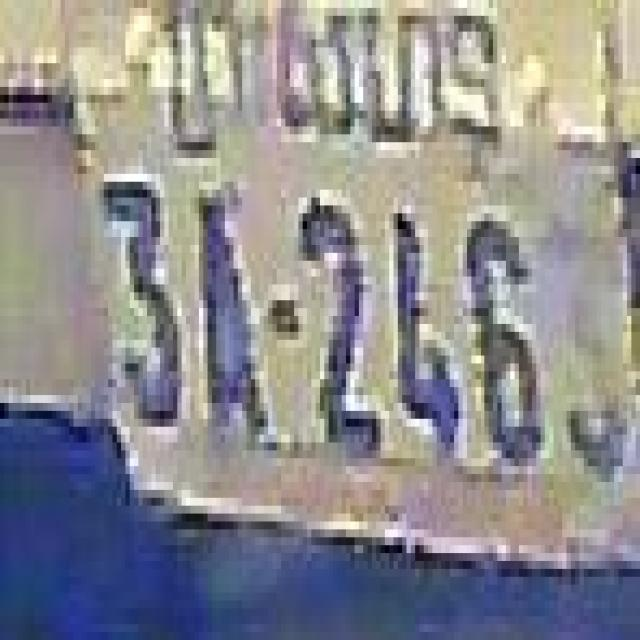Preah_Sihanouk: (169, 0, 503, 188)
